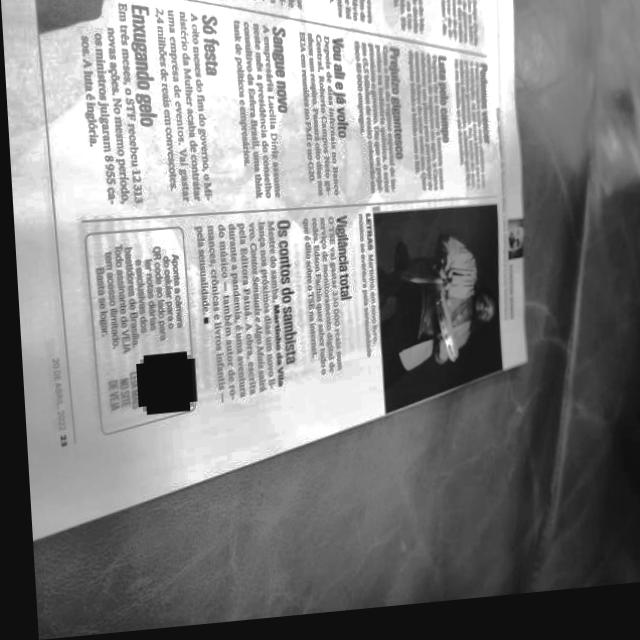qr_code: (134, 358, 188, 414)
